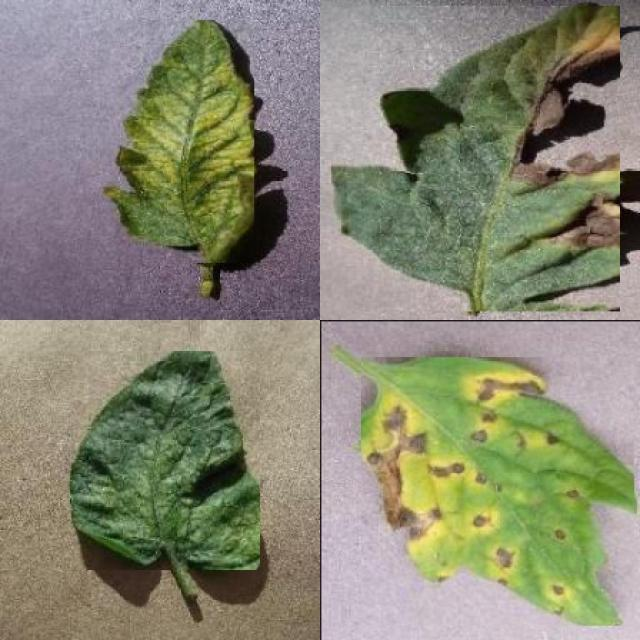Early Blight: (332, 5, 620, 312)
Mosaic Virus: (100, 20, 254, 263)
Septoria: (360, 357, 634, 626)
Spider Mites: (72, 350, 260, 570)
